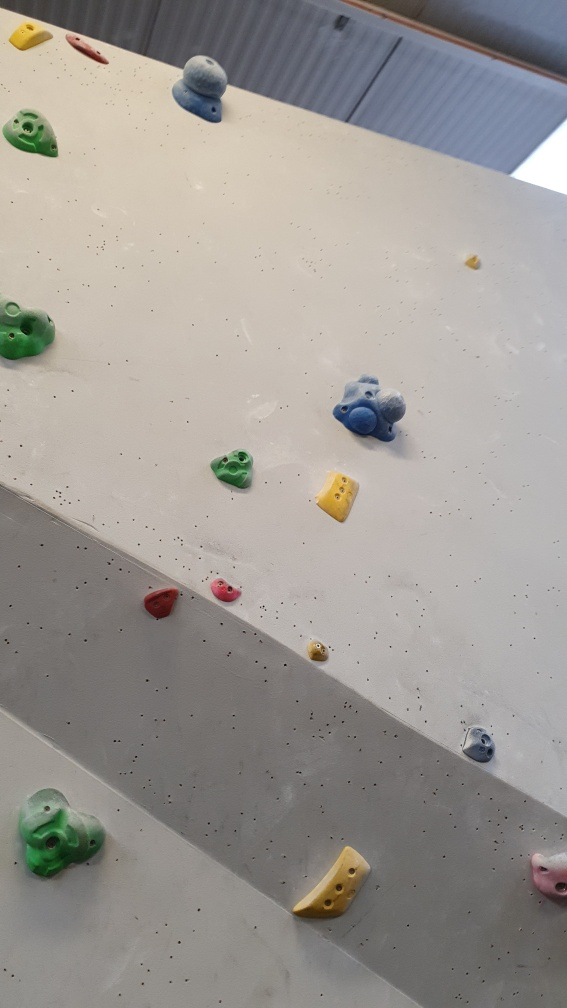Crimp: (285, 843, 371, 931), (313, 466, 366, 524)
Jug: (11, 782, 112, 889), (1, 299, 61, 367), (1, 102, 63, 160), (211, 447, 258, 499)
Pinch: (8, 21, 54, 52)
Sloper: (333, 370, 413, 448), (168, 46, 230, 130)
